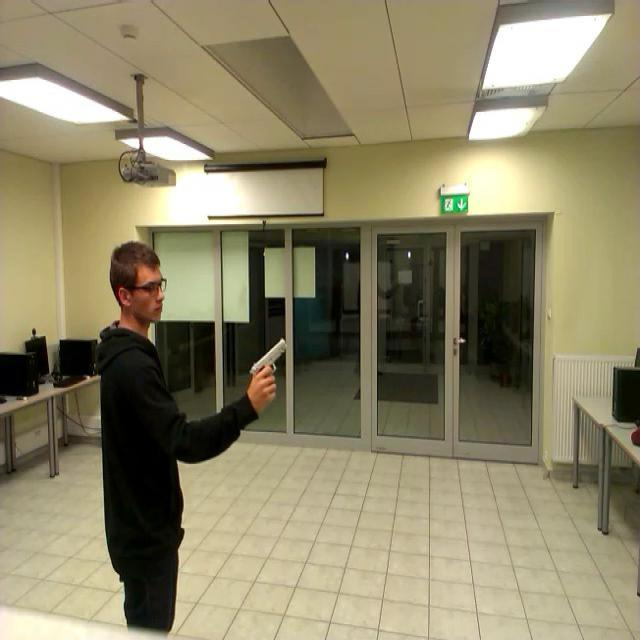weapon: (248, 340, 285, 398)
